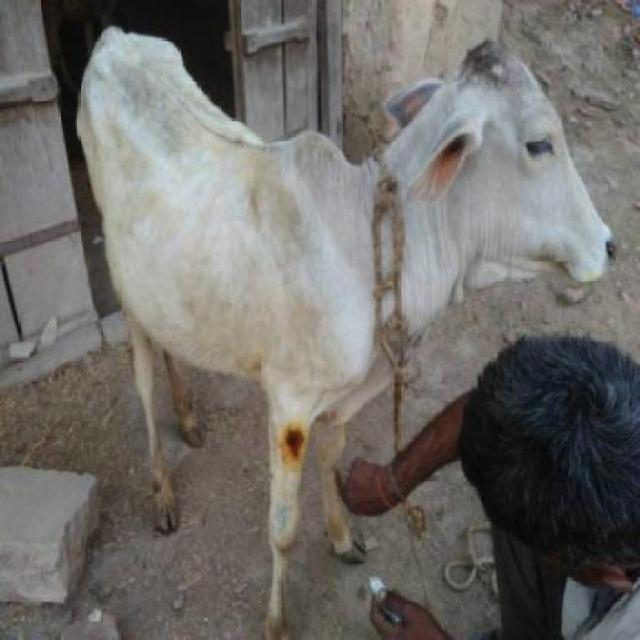cow: (72, 25, 616, 570)
injured: (271, 408, 327, 468)
